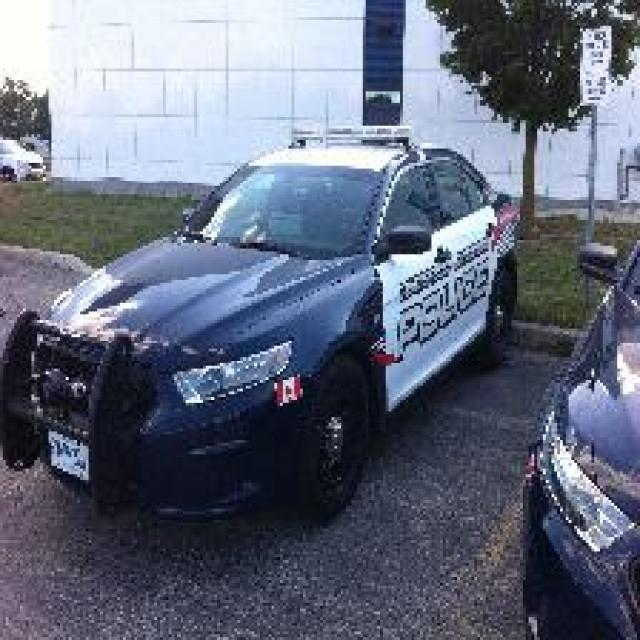emergency: (2, 124, 522, 530)
